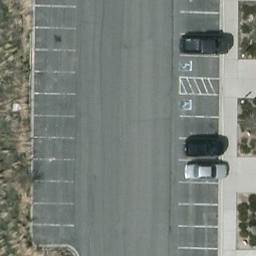car: (181, 164, 231, 181), (185, 137, 223, 158)
pickup: (180, 36, 232, 56)
